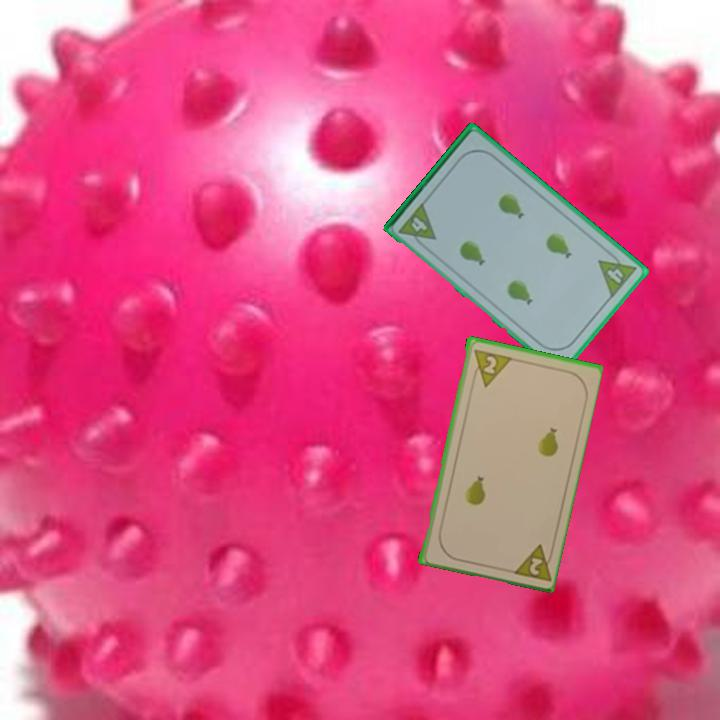2p: (507, 540, 556, 584), (469, 345, 513, 389)
4p: (595, 246, 639, 301), (395, 199, 439, 252)
